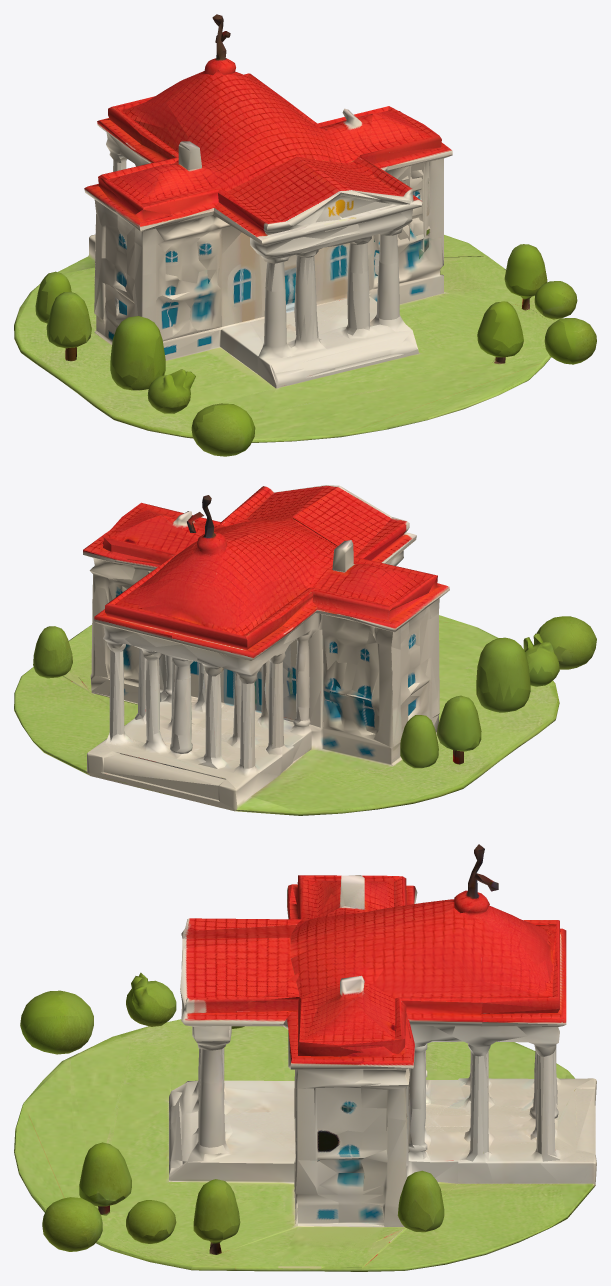
Rendered from hub_university.glb.
The picture shows the model from 3 angles, top to bottom: view 1: azimuth 30°, elevation 25°; view 2: azimuth 150°, elevation 25°; view 3: azimuth 270°, elevation 25°; orthographic projection. The views are drawn at different scales.
Bounding box in the file's own units: 1.91 × 1.06 × 1.86.
Materials: 1 (1 with a texture image).
